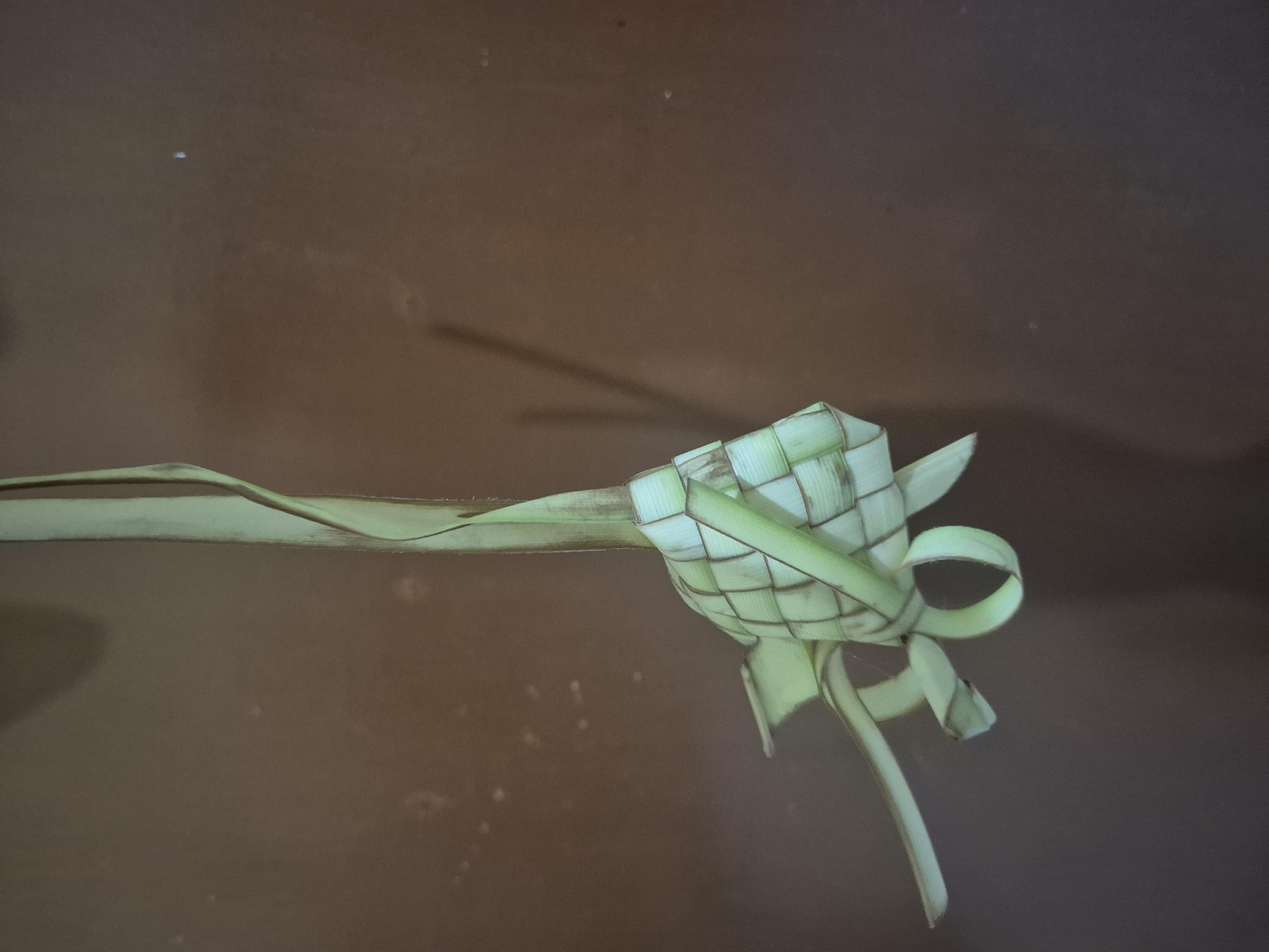Tipat Dampulan: (36, 470, 733, 768)
